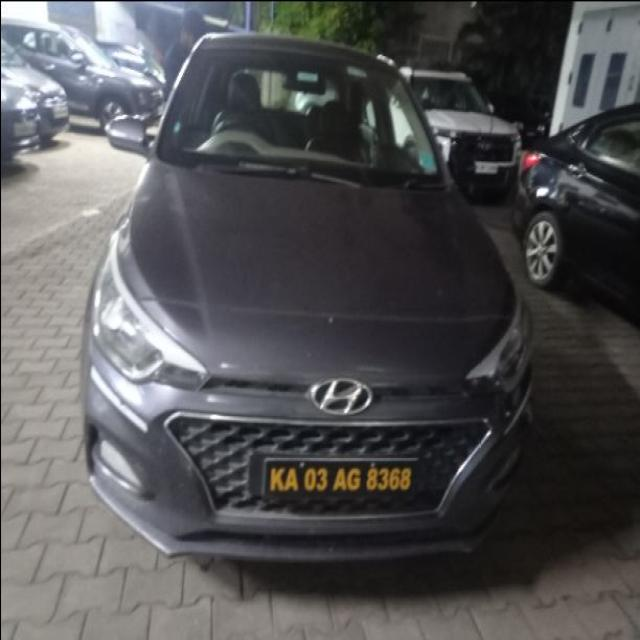license_plate: (256, 452, 419, 504)
